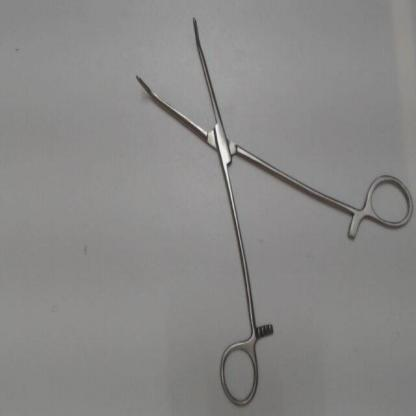Lahey Forceps: (126, 7, 414, 410)
